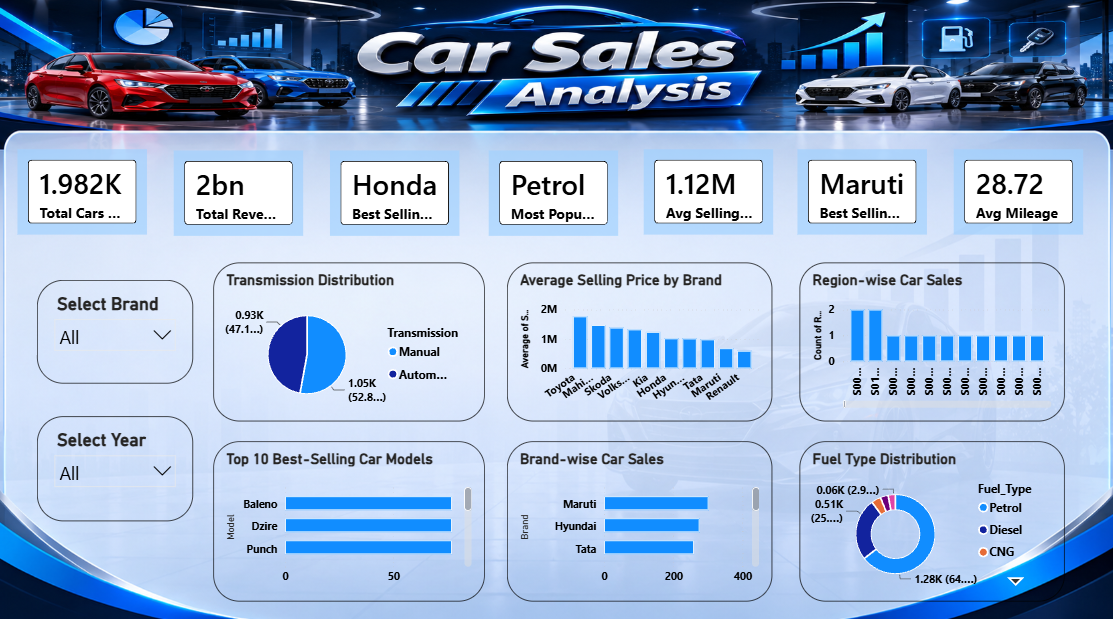

This screenshot's page, from the dashboard's own definition file:
{"tool":"powerbi","page":{"name":"Page 1","canvas":[1280,720],"ordinal":0},"visuals":[{"type":"cardVisual","fields":{"Data":["CountNonNull(car_sales car_sales_data.Sale_ID)"]},"box":[18.6,171.4,158.6,107.1],"z":1},{"type":"cardVisual","fields":{"Data":["Sum(car_sales car_sales_data.Selling_Price)"]},"box":[197.1,172.9,158.6,107.1],"z":2},{"type":"cardVisual","fields":{"Data":["Avg(car_sales car_sales_data.Selling_Price)"]},"box":[734.3,171.4,158.6,107.1],"z":3},{"type":"cardVisual","fields":{"Data":["Min(car_sales car_sales_data.Brand)"]},"box":[375.7,172.9,158.6,107.1],"z":4},{"type":"cardVisual","fields":{"Data":["car_sales car_sales_data.Best Selling Brand"]},"box":[910,171.4,158.6,107.1],"z":5},{"type":"cardVisual","fields":{"Data":["car_sales car_sales_data.Most Popular Fuel"]},"box":[557.1,172.9,158.6,107.1],"z":6},{"type":"cardVisual","fields":{"Data":["car_sales car_sales_data.Average Mileage"]},"box":[1088.6,171.4,158.6,107.1],"z":7},{"type":"clusteredBarChart","title":"Brand-wise Car Sales","fields":{"Y":["CountNonNull(car_sales car_sales_data.Sale_ID)"],"Category":["car_sales car_sales_data.Brand"]},"box":[582.9,510,302.9,182.9],"z":8},{"type":"clusteredColumnChart","title":"Region-wise Car Sales","fields":{"Category":["car_sales car_sales_data.Sale_ID"],"Y":["CountNonNull(car_sales car_sales_data.Region)"]},"box":[917.1,305.7,302.9,181.4],"z":9},{"type":"donutChart","title":"Fuel Type Distribution","fields":{"Category":["car_sales car_sales_data.Fuel_Type"],"Y":["CountNonNull(car_sales car_sales_data.Sale_ID)"]},"box":[917.1,510,302.9,182.9],"z":10},{"type":"pieChart","title":"Transmission Distribution","fields":{"Category":["car_sales car_sales_data.Transmission"],"Y":["CountNonNull(car_sales car_sales_data.Sale_ID)"]},"box":[247.1,305.7,310,181.4],"z":11},{"type":"clusteredBarChart","title":"Top 10 Best-Selling Car Models","fields":{"Category":["car_sales car_sales_data.Model"],"Y":["CountNonNull(car_sales car_sales_data.Sale_ID)"]},"box":[247.1,510,310,182.9],"z":12},{"type":"clusteredColumnChart","title":"Average Selling Price by Brand","fields":{"Category":["car_sales car_sales_data.Brand"],"Y":["Avg(car_sales car_sales_data.Selling_Price)"]},"box":[582.9,305.7,302.9,181.4],"z":13},{"type":"slicer","title":"Select year","fields":{"Values":["car_sales car_sales_data.Year"]},"box":[45.7,481.4,178.6,120],"z":14},{"type":"slicer","fields":{"Values":["car_sales car_sales_data.Brand"]},"box":[45.7,325.7,178.6,118.6],"z":15}]}

Visuals, with their boxes in screenshot pixels (x1, y1, x2, y2), scaled from the page's 1280x720 canvas onto the 1113x619 screenshot:
cardVisual - CountNonNull(car_sales car_sales_data.Sale_ID): crop(16, 147, 154, 239)
cardVisual - Sum(car_sales car_sales_data.Selling_Price): crop(171, 149, 309, 241)
cardVisual - Avg(car_sales car_sales_data.Selling_Price): crop(638, 147, 776, 239)
cardVisual - Min(car_sales car_sales_data.Brand): crop(327, 149, 465, 241)
cardVisual - car_sales car_sales_data.Best Selling Brand: crop(791, 147, 929, 239)
cardVisual - car_sales car_sales_data.Most Popular Fuel: crop(484, 149, 622, 241)
cardVisual - car_sales car_sales_data.Average Mileage: crop(947, 147, 1084, 239)
"Brand-wise Car Sales" clusteredBarChart: crop(507, 438, 770, 596)
"Region-wise Car Sales" clusteredColumnChart: crop(797, 263, 1061, 419)
"Fuel Type Distribution" donutChart: crop(797, 438, 1061, 596)
"Transmission Distribution" pieChart: crop(215, 263, 484, 419)
"Top 10 Best-Selling Car Models" clusteredBarChart: crop(215, 438, 484, 596)
"Average Selling Price by Brand" clusteredColumnChart: crop(507, 263, 770, 419)
"Select year" slicer: crop(40, 414, 195, 517)
slicer - car_sales car_sales_data.Brand: crop(40, 280, 195, 382)
